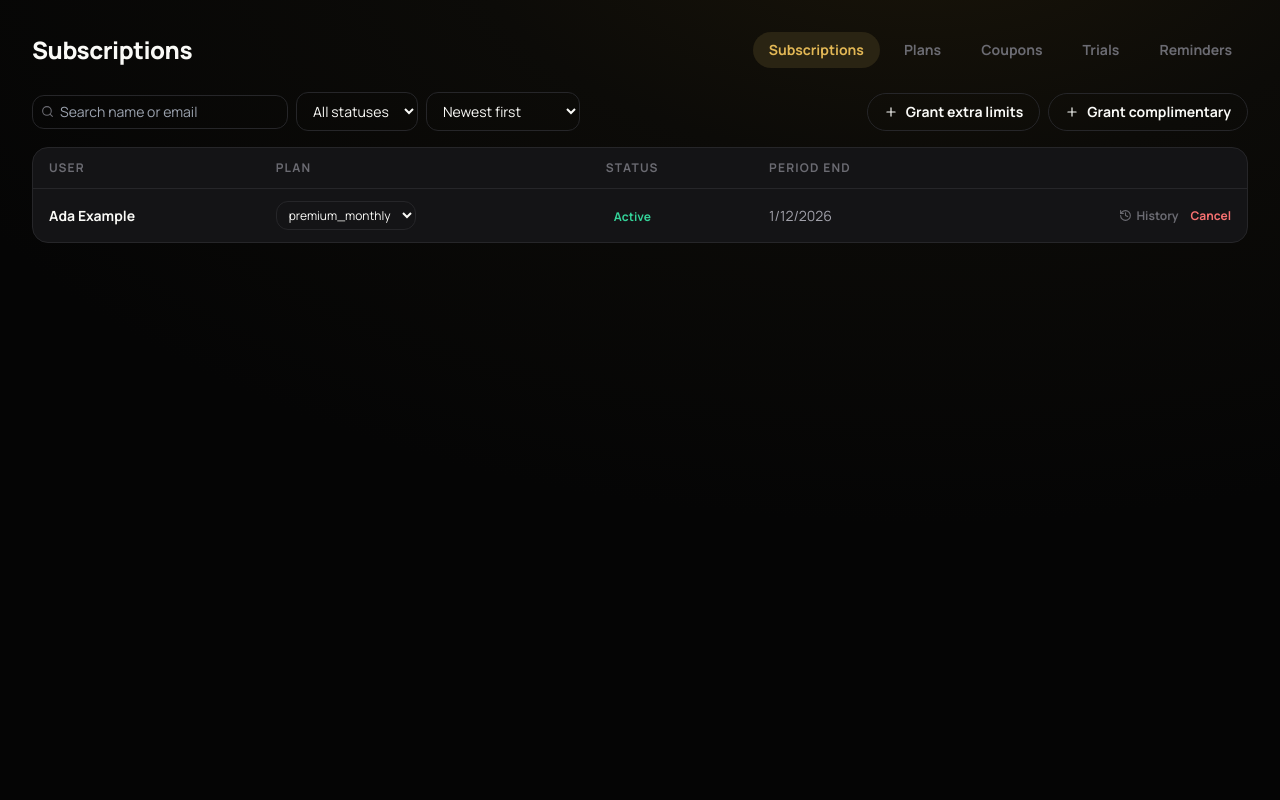
Test: Subscriptions (admin) › grants a complimentary subscription, prompting for step-up when required
The width and height of the screenshot is (1280, 800).
Expected: the table with test id "admin-subscriptions-table" is shown, [33,148,1247,242]
Click the button with test id "admin-subscriptions-grant-toggle-btn". click: (1148, 112)
box: [1048,92,1248,130]
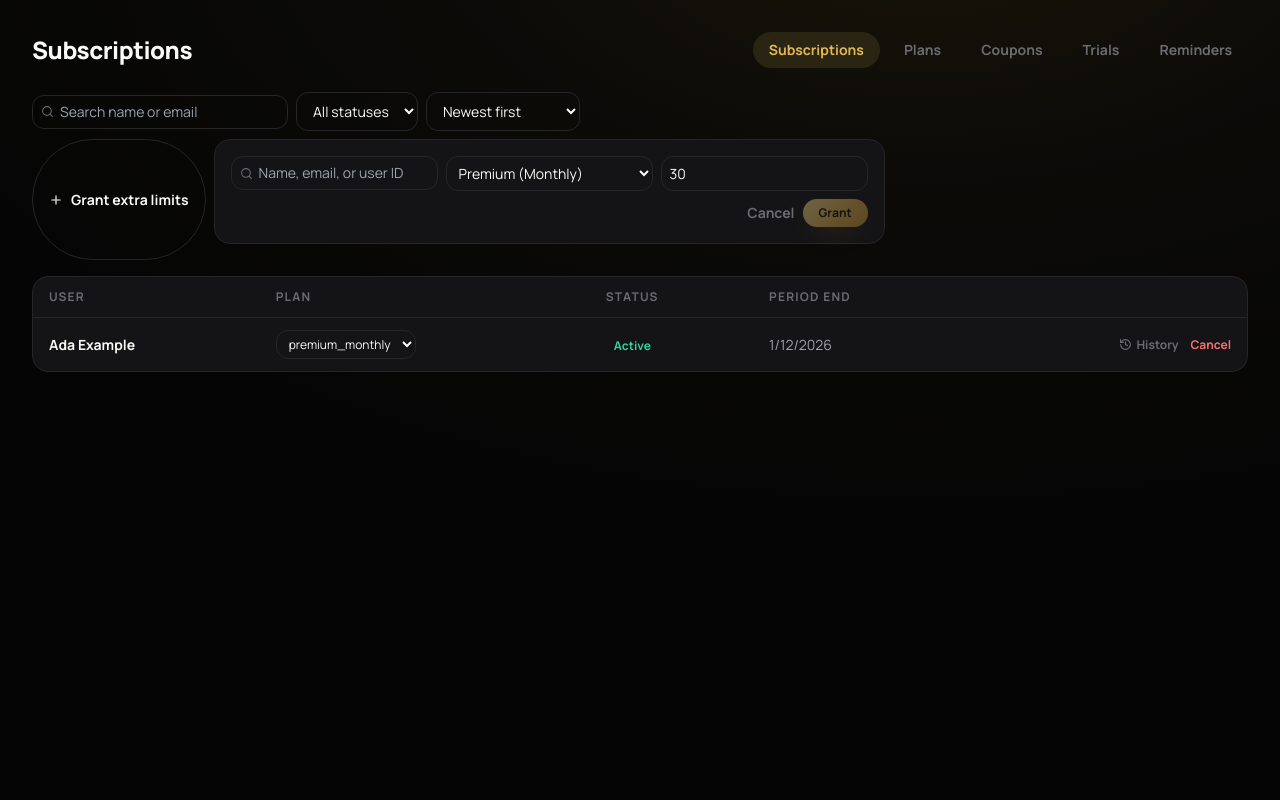
Type "u2" into the field with test id "admin-subscriptions-grant-user-input". click: (344, 173)
box: [259,163,429,183]
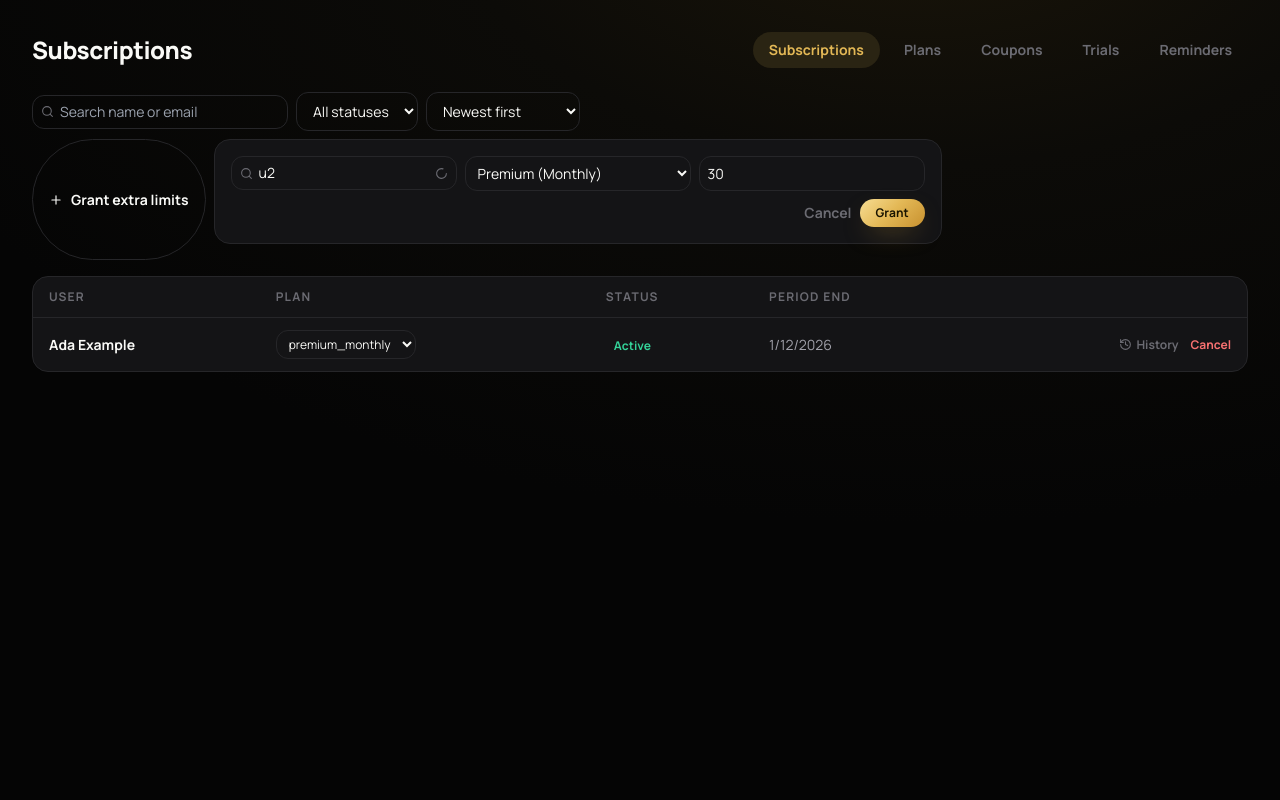
Replace the text in the number field with test id "admin-subscriptions-grant-days-input" with "60". click: (812, 174)
box: [699,156,925,191]
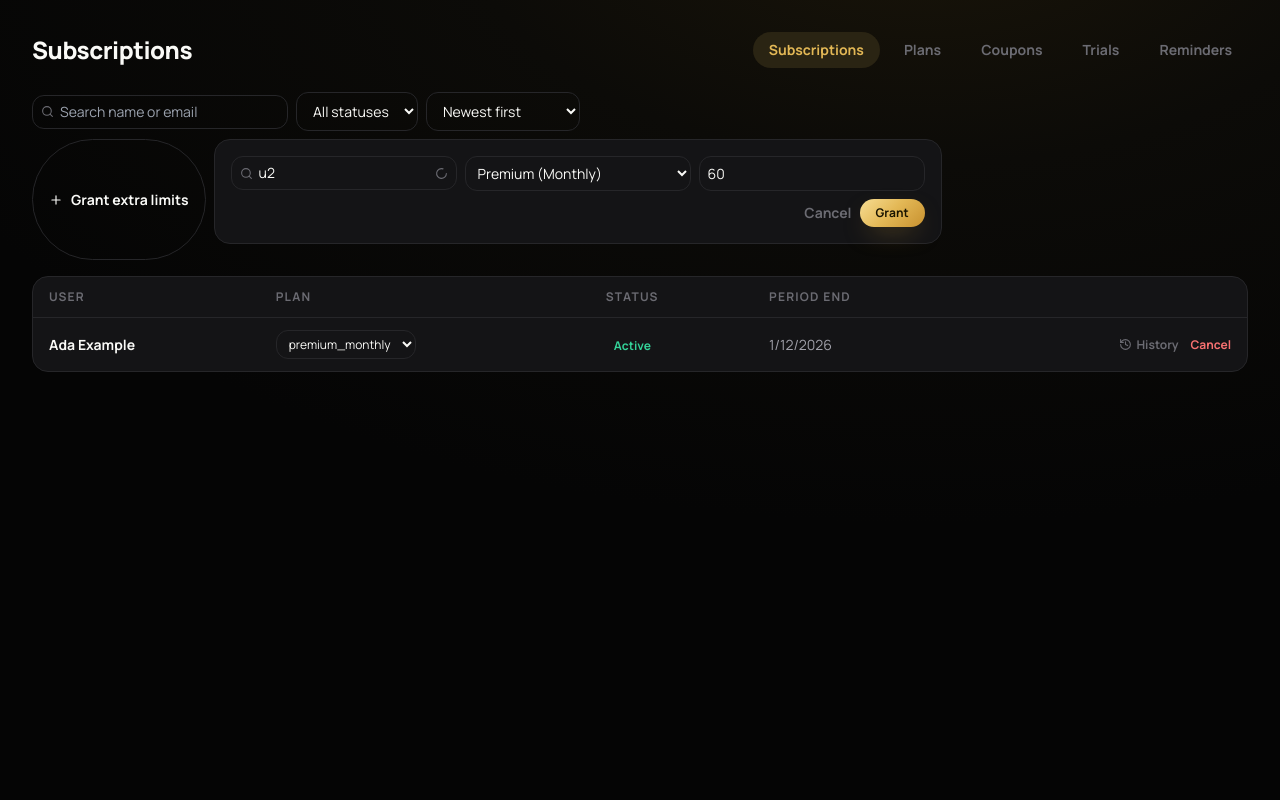
Click the button with test id "admin-subscriptions-grant-submit-btn". click: (892, 213)
box: [860,199,924,227]
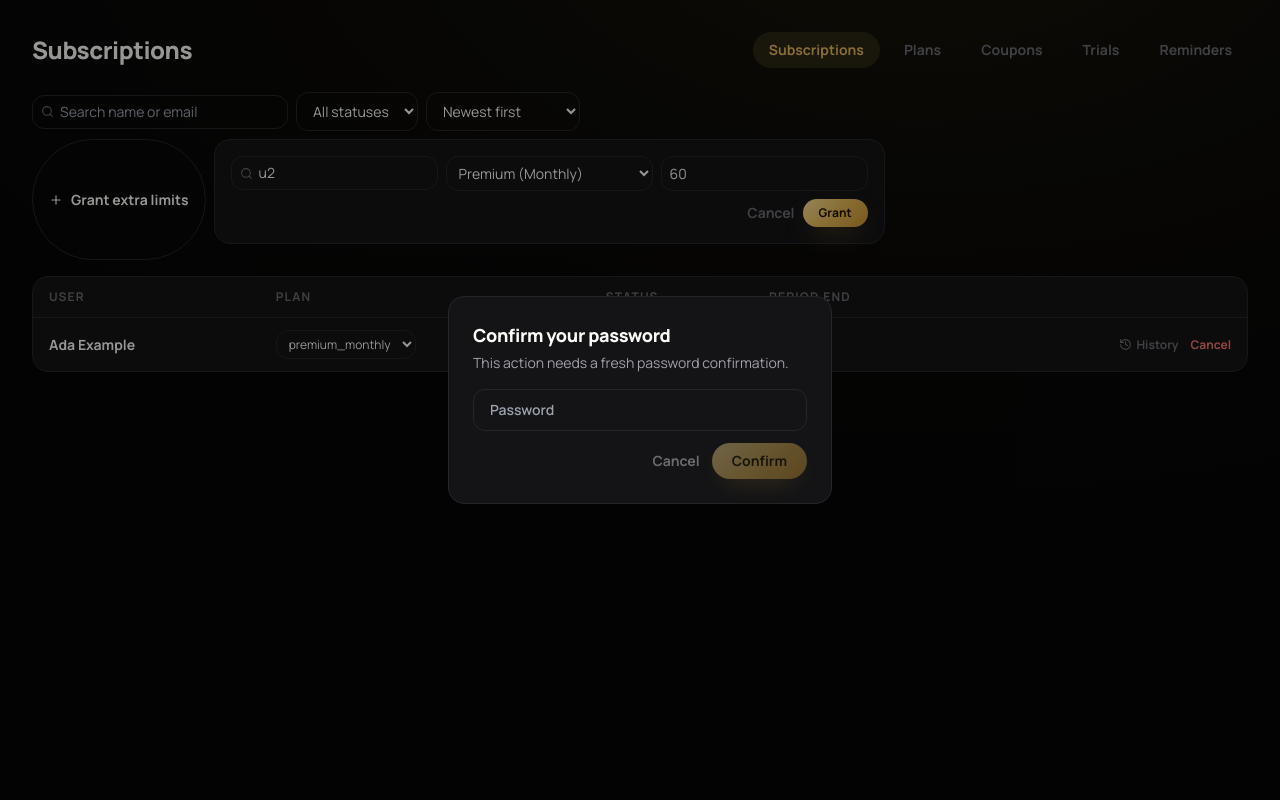
Result: the element with test id "admin-stepup-modal" is shown
